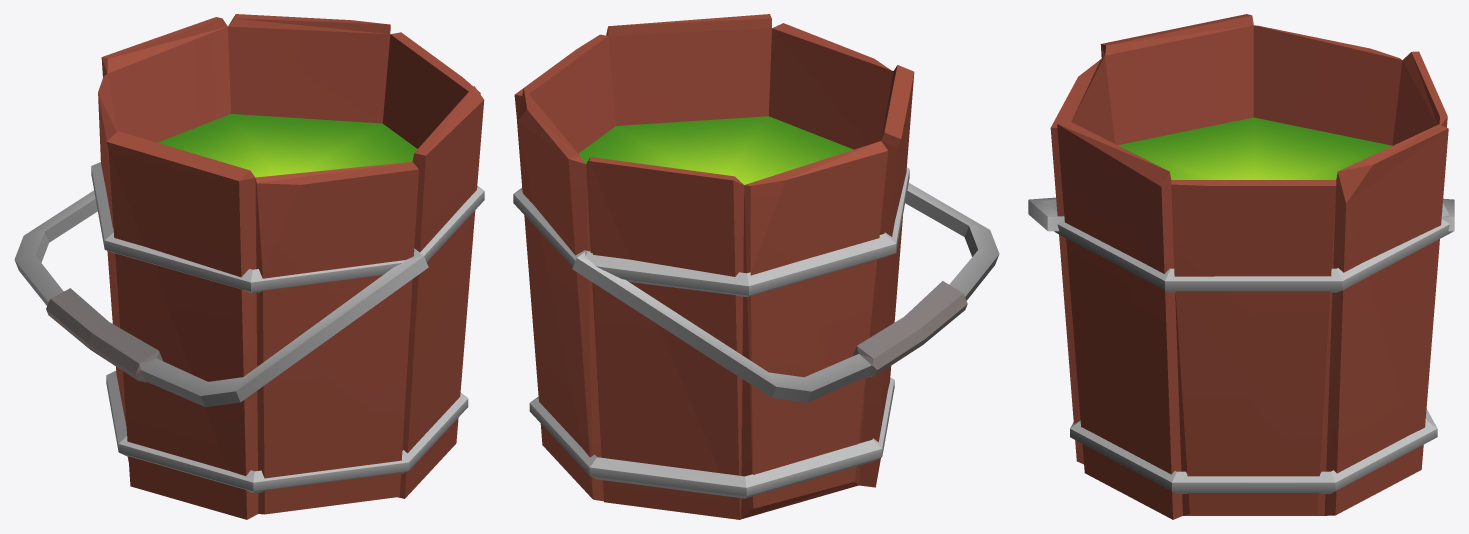
Rendered from waterbucket2.glb.
The picture shows the model from 3 angles, left to right: view 1: azimuth 30°, elevation 25°; view 2: azimuth 150°, elevation 25°; view 3: azimuth 270°, elevation 25°; orthographic projection.
Parts seen in each view (by area): view 1: WaterBucket2; view 2: WaterBucket2; view 3: WaterBucket2.
Part boxes in pixels (x1,y1,x2,y2): WaterBucket2: (14,14,484,519); WaterBucket2: (513,14,999,519); WaterBucket2: (1028,14,1454,519).
Bounding box in the file's own units: 0.4308 × 0.4071 × 0.4397.
Materials: 1 (1 with a texture image).
